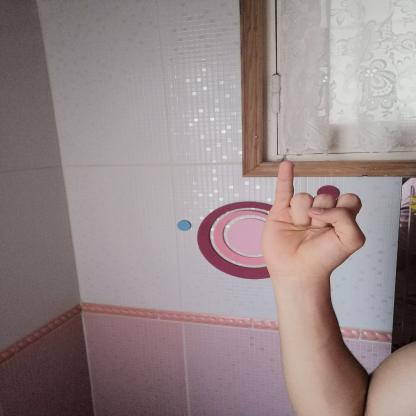MEEM: (247, 150, 377, 289)
